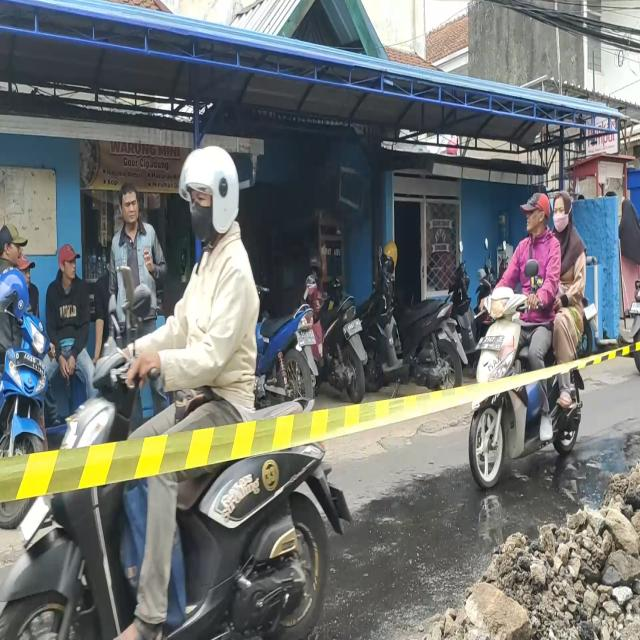helmet: (185, 152, 235, 229)
no-helmet: (519, 190, 550, 236), (554, 190, 570, 234)
